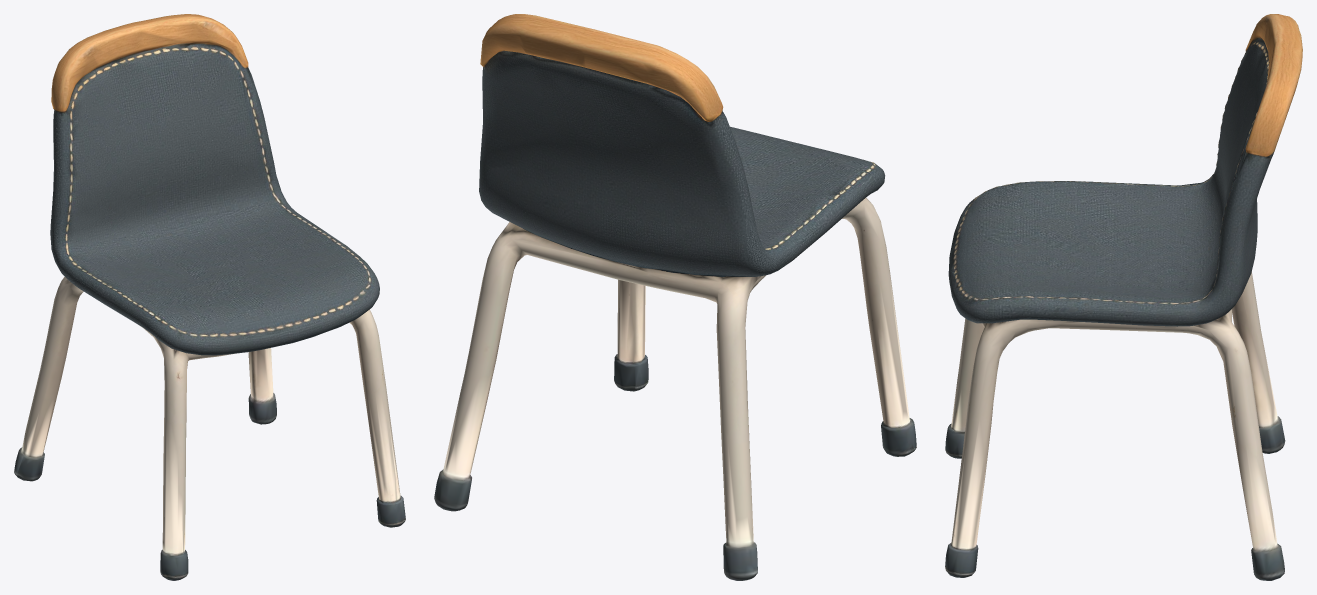
File: chair.high.glb
3 renders of one model, left to right at view 1: azimuth 30°, elevation 25°; view 2: azimuth 150°, elevation 25°; view 3: azimuth 270°, elevation 25°, orthographic. The views are drawn at different scales.
Visible parts, largest first — view 1: tripo_node_aca1ffa9-5374-4a42-8209-2fbd5167bead; view 2: tripo_node_aca1ffa9-5374-4a42-8209-2fbd5167bead; view 3: tripo_node_aca1ffa9-5374-4a42-8209-2fbd5167bead.
Boxes of the visible parts, x1,y1,x2,y2 form: tripo_node_aca1ffa9-5374-4a42-8209-2fbd5167bead: (14, 14, 405, 580); tripo_node_aca1ffa9-5374-4a42-8209-2fbd5167bead: (434, 14, 916, 580); tripo_node_aca1ffa9-5374-4a42-8209-2fbd5167bead: (945, 14, 1302, 580).
Bounding box in the file's own units: 0.412 × 0.6396 × 0.4373.
Materials: 1 (1 with a texture image).
